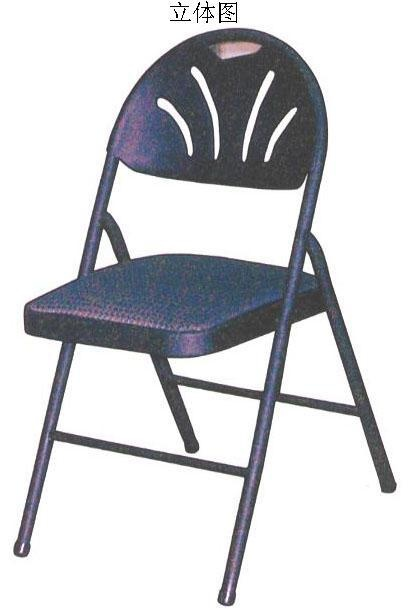obstacle: (14, 29, 395, 605)
